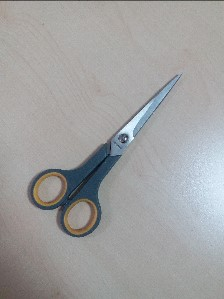scissors: (21, 69, 184, 243)
